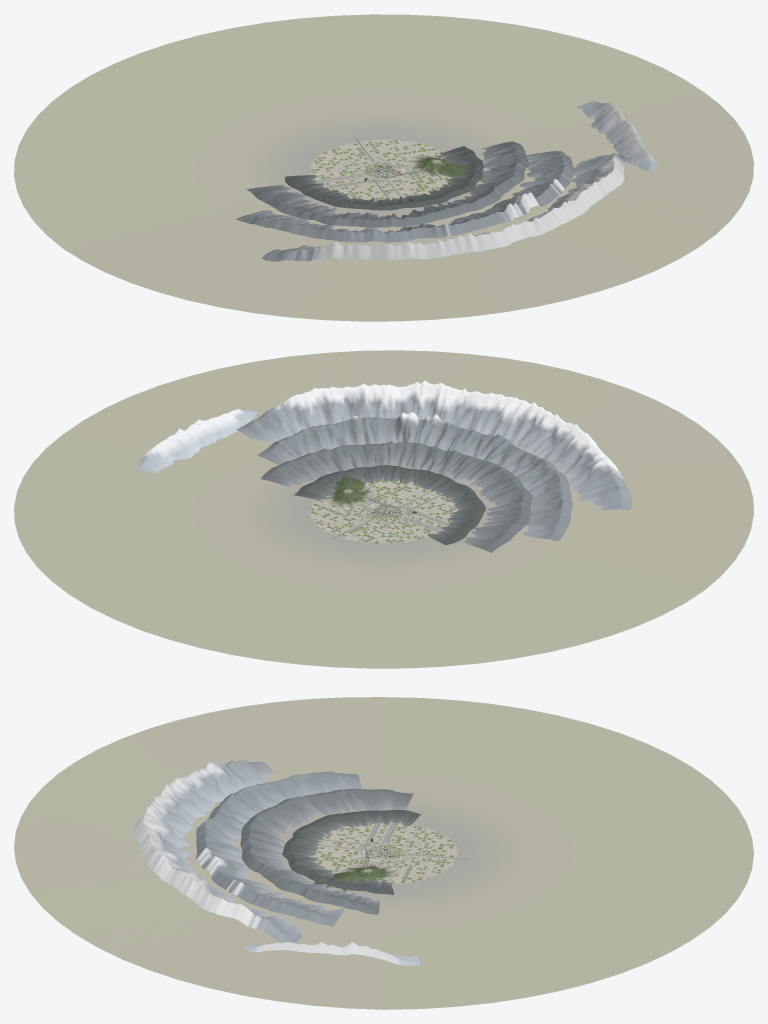
The model's file is dostyk-plaza.glb.
3 renders of one model, top to bottom at view 1: azimuth 30°, elevation 25°; view 2: azimuth 150°, elevation 25°; view 3: azimuth 270°, elevation 25°, orthographic.
Parts seen in each view (by area): view 1: Context_Far__ctx.farStreet, Context_Mountains__ctx.mountain, Context_Mountains__ctx.mountainFar, Context_Mountains__ctx.snow, Context_Far__site.ground, Context_Far__site.grassDark, Context_Far__ctx.clayFar, Context_Landmarks__ctx.hill; view 2: Context_Far__ctx.farStreet, Context_Mountains__ctx.mountainFar, Context_Mountains__ctx.mountain, Context_Mountains__ctx.snow, Context_Far__site.ground, Context_Far__site.grassDark, Context_Far__ctx.clayFar, Context_Landmarks__ctx.hill; view 3: Context_Far__ctx.farStreet, Context_Mountains__ctx.mountainFar, Context_Mountains__ctx.mountain, Context_Mountains__ctx.snow, Context_Far__site.ground, Context_Far__site.grassDark, Context_Far__ctx.clayFar, Context_Landmarks__ctx.hill.
Part boxes in pixels (bbox=[...]): Context_Far__ctx.farStreet: bbox=[14, 14, 753, 321]; Context_Mountains__ctx.mountain: bbox=[246, 141, 529, 227]; Context_Mountains__ctx.mountainFar: bbox=[236, 100, 656, 261]; Context_Mountains__ctx.snow: bbox=[313, 102, 655, 260]; Context_Far__site.ground: bbox=[310, 139, 452, 200]; Context_Far__site.grassDark: bbox=[311, 140, 450, 199]; Context_Far__ctx.clayFar: bbox=[311, 140, 449, 199]; Context_Landmarks__ctx.hill: bbox=[402, 154, 485, 180]; Context_Far__ctx.farStreet: bbox=[14, 350, 753, 668]; Context_Mountains__ctx.mountainFar: bbox=[136, 394, 632, 541]; Context_Mountains__ctx.mountain: bbox=[261, 441, 533, 552]; Context_Mountains__ctx.snow: bbox=[143, 380, 622, 477]; Context_Far__site.ground: bbox=[309, 480, 457, 543]; Context_Far__site.grassDark: bbox=[310, 480, 456, 543]; Context_Far__ctx.clayFar: bbox=[311, 481, 455, 542]; Context_Landmarks__ctx.hill: bbox=[323, 469, 373, 509]; Context_Far__ctx.farStreet: bbox=[14, 697, 753, 1009]; Context_Mountains__ctx.mountainFar: bbox=[156, 760, 420, 965]; Context_Mountains__ctx.mountain: bbox=[240, 788, 420, 914]; Context_Mountains__ctx.snow: bbox=[133, 761, 397, 964]; Context_Far__site.ground: bbox=[310, 822, 457, 884]; Context_Far__site.grassDark: bbox=[313, 824, 454, 884]; Context_Far__ctx.clayFar: bbox=[315, 823, 456, 883]; Context_Landmarks__ctx.hill: bbox=[313, 862, 399, 892].
Bounding box in the file's own units: 23000 × 1248 × 23000.
